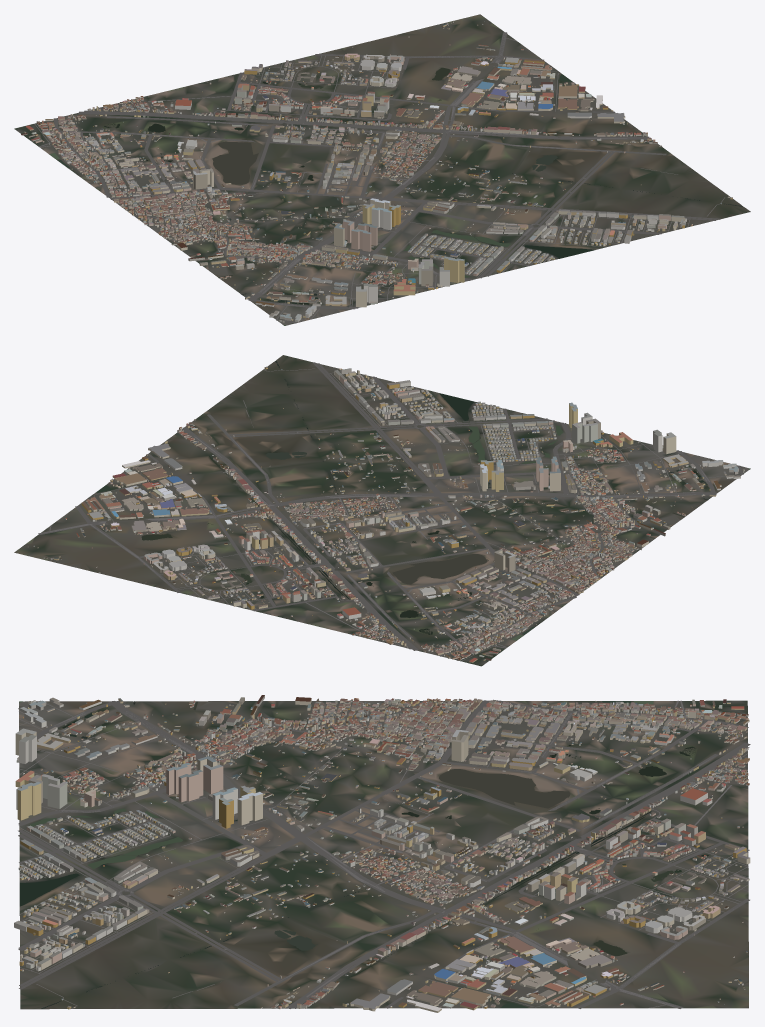
3 views of the same model, one above another, from view 1: azimuth 30°, elevation 25°; view 2: azimuth 150°, elevation 25°; view 3: azimuth 270°, elevation 25° (orthographic). The views are drawn at different scales.
Parts seen in each view (by area): view 1: ground, buildings, roads, water; view 2: ground, buildings, roads, water; view 3: ground, buildings, roads, water.
Part boxes in pixels (left/top/right/bottom): ground: left=14, top=14, right=750, bottom=325; buildings: left=21, top=21, right=732, bottom=322; roads: left=34, top=32, right=729, bottom=323; water: left=49, top=67, right=742, bottom=325; ground: left=14, top=355, right=750, bottom=666; buildings: left=33, top=366, right=744, bottom=662; roads: left=38, top=362, right=743, bottom=661; water: left=96, top=361, right=750, bottom=640; ground: left=19, top=700, right=748, bottom=1009; buildings: left=14, top=695, right=750, bottom=1012; roads: left=18, top=699, right=750, bottom=1008; water: left=19, top=701, right=708, bottom=1008.
Bounding box in the file's own units: 2869 × 130 × 2835.
